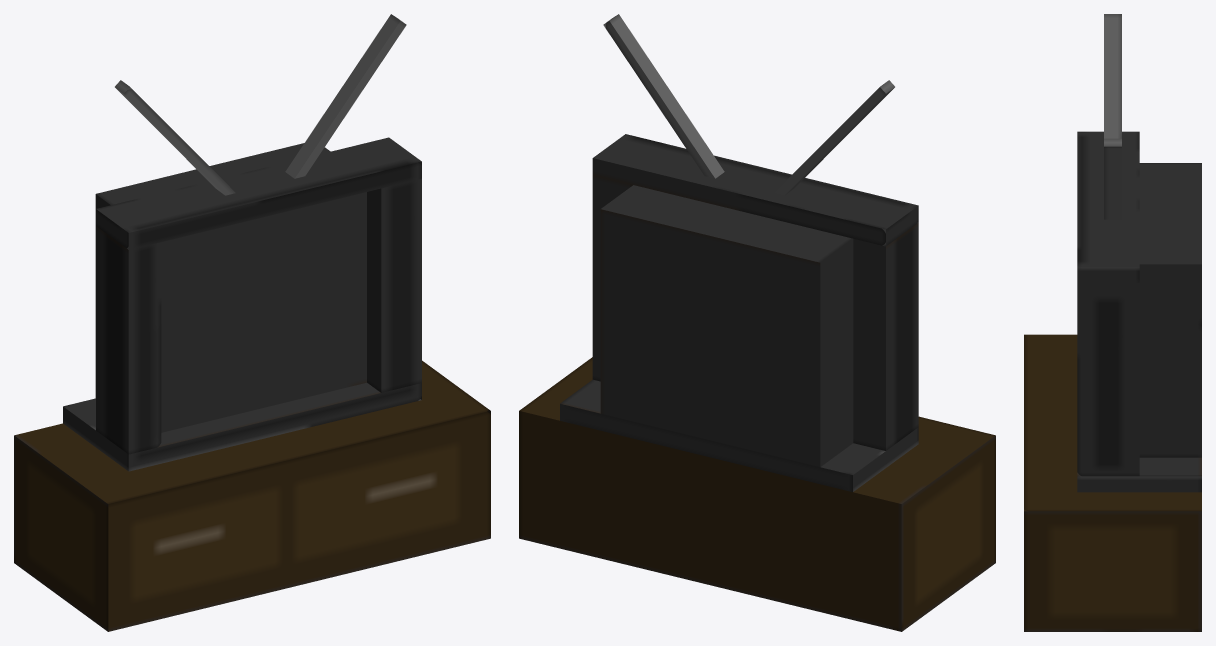
The picture shows the model from 3 angles, left to right: view 1: azimuth 30°, elevation 25°; view 2: azimuth 150°, elevation 25°; view 3: azimuth 270°, elevation 25°; orthographic projection. The views are drawn at different scales.
Parts seen in each view (by area): view 1: cube_7, cube_5, cube_2, cube_3, cube_4, cube_6, cube, cube_1; view 2: cube_7, cube_5, cube_2, cube_3, cube_6, cube, cube_4, cube_1; view 3: cube_7, cube_5, cube_4, cube_2, cube_6, cube_1, cube.
Part boxes in pixels (x1,y1,x2,y2): cube_7: (14, 360, 490, 631); cube_5: (95, 143, 366, 432); cube_2: (96, 137, 421, 249); cube_3: (96, 226, 161, 454); cube_4: (367, 178, 421, 392); cube_6: (63, 382, 421, 471); cube: (285, 14, 406, 178); cube_1: (115, 80, 235, 195); cube_7: (519, 357, 995, 631); cube_5: (600, 185, 853, 467); cube_2: (592, 134, 918, 246); cube_3: (853, 222, 918, 450); cube_6: (560, 379, 918, 491); cube: (603, 14, 724, 178); cube_4: (592, 175, 632, 381); cube_1: (774, 80, 894, 195); cube_7: (1024, 334, 1201, 631); cube_5: (1139, 163, 1201, 457); cube_4: (1077, 283, 1139, 476); cube_2: (1077, 131, 1139, 282); cube_6: (1077, 457, 1201, 492); cube_1: (1104, 14, 1121, 138); cube: (1104, 138, 1121, 219).
Size of the model in its own units: 147 by 183 by 62.5.
1 material, 1 textured.
